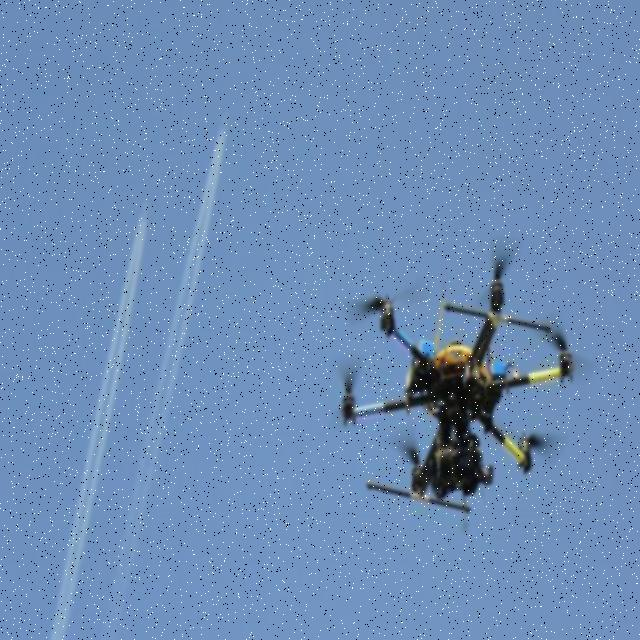UAV: (339, 266, 576, 522)
